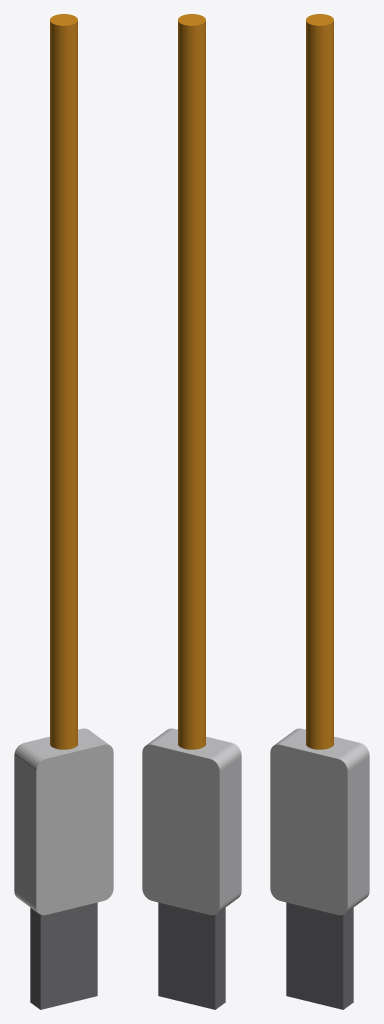
The model's file is ref_cable_usbc.glb.
The picture shows the model from 3 angles, left to right: view 1: azimuth 30°, elevation 25°; view 2: azimuth 150°, elevation 25°; view 3: azimuth 330°, elevation 25°; orthographic projection.
Visible parts, largest first — view 1: cable, bota, conector; view 2: cable, bota, conector; view 3: cable, bota, conector.
Boxes of the visible parts, x1,y1,x2,y2 form: cable: [50, 14, 77, 749]; bota: [14, 728, 113, 915]; conector: [30, 902, 97, 1009]; cable: [178, 14, 205, 749]; bota: [142, 728, 241, 915]; conector: [158, 902, 225, 1009]; cable: [306, 14, 333, 749]; bota: [270, 728, 369, 915]; conector: [286, 902, 353, 1009].
Size of the model in its own units: 11.4 by 138 by 5.6.
